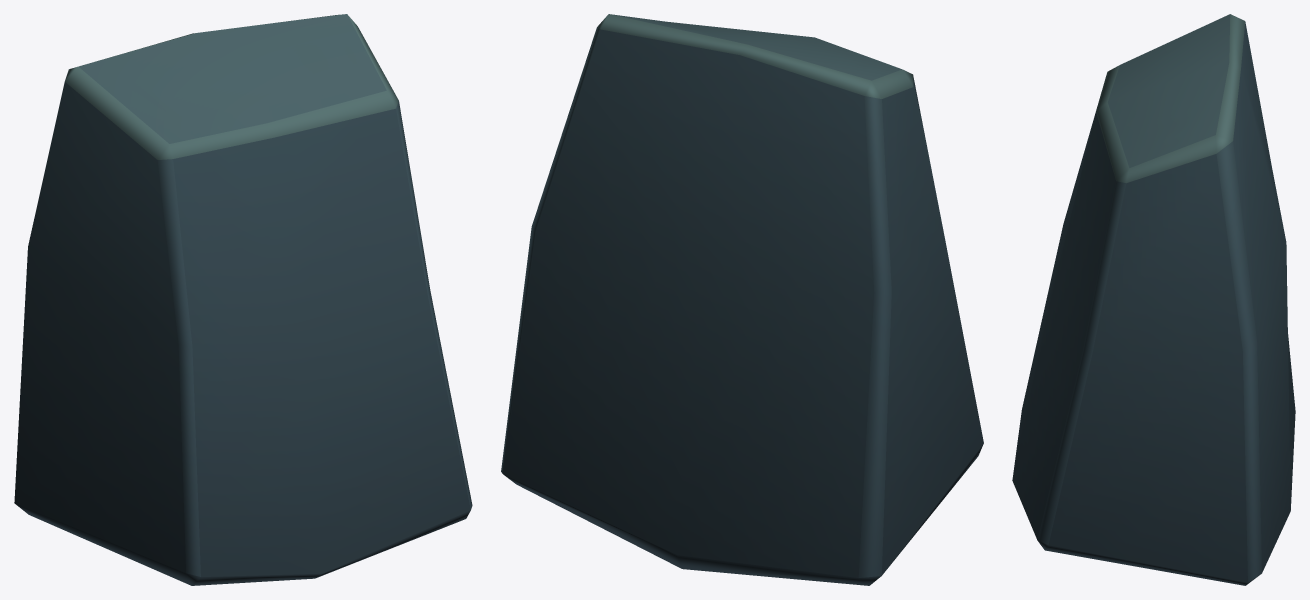
File: rock_large_09.fbx
3 views of the same model, side by side, from view 1: azimuth 30°, elevation 25°; view 2: azimuth 150°, elevation 25°; view 3: azimuth 270°, elevation 25° (orthographic). The views are drawn at different scales.
Parts seen in each view (by area): view 1: rock_large_09; view 2: rock_large_09; view 3: rock_large_09.
Boxes of the visible parts, x1,y1,x2,y2 form: rock_large_09: (14, 14, 472, 585); rock_large_09: (501, 14, 983, 585); rock_large_09: (1012, 14, 1295, 585).
Bounding box in the file's own units: 909 × 1116 × 636.
